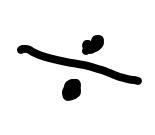div: (17, 35, 142, 100)
